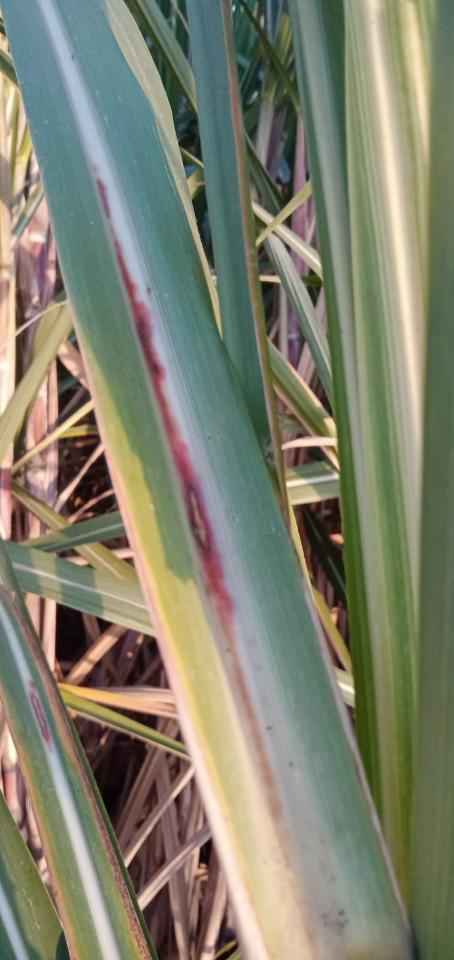RedRot: (88, 161, 284, 822), (31, 693, 53, 753)
